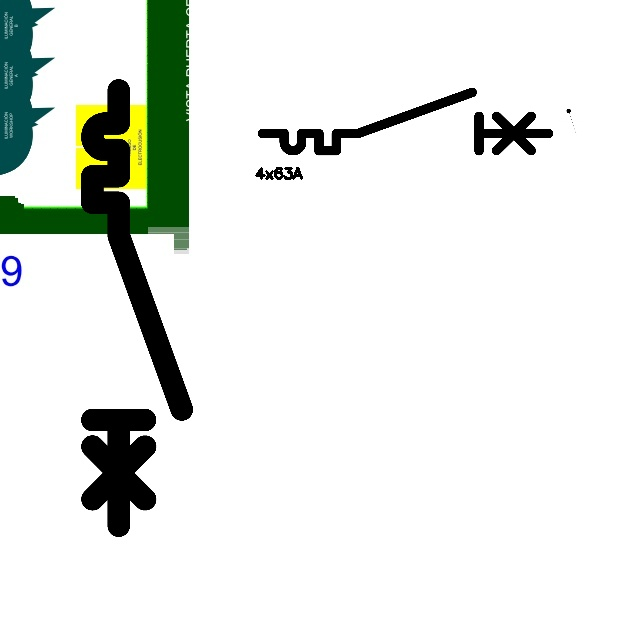interruptor_termomagnetico: (81, 79, 193, 537), (255, 85, 556, 158)
